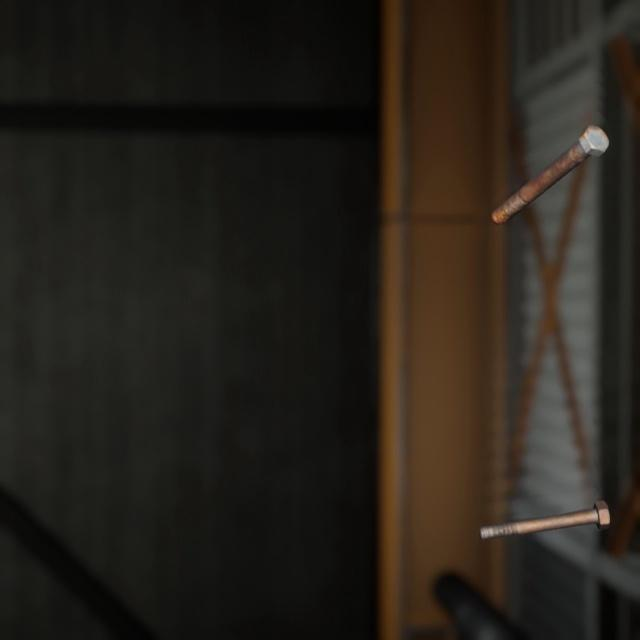bolt: (486, 106, 613, 215), (474, 474, 614, 523)
